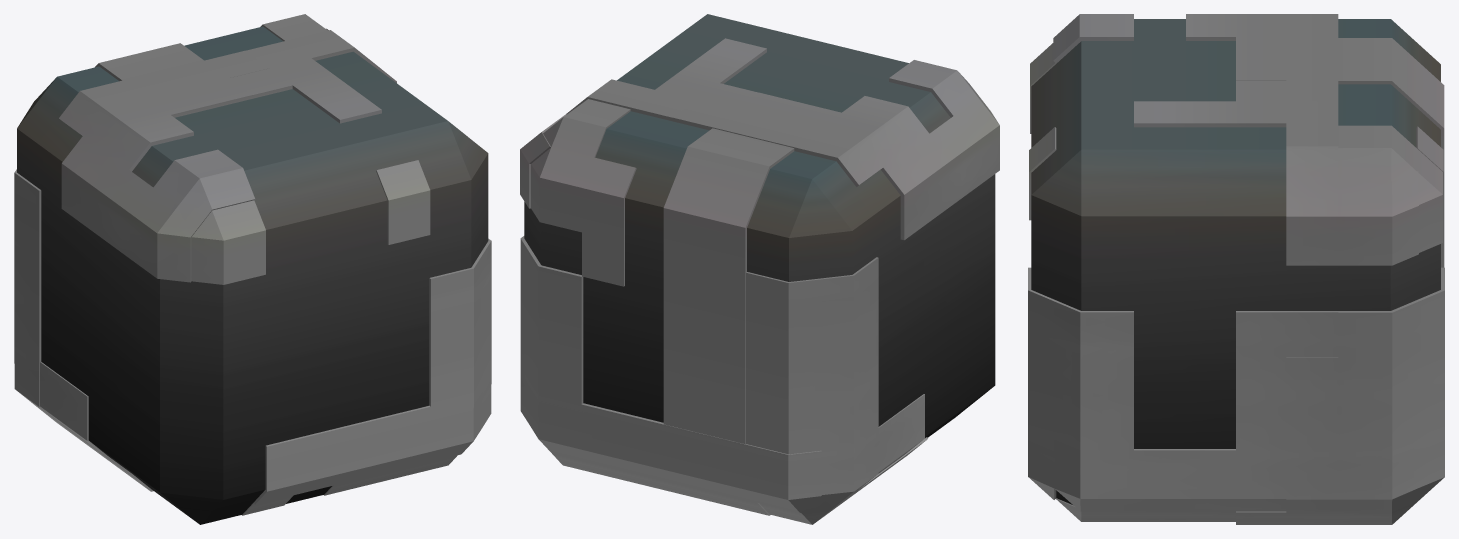
File: CyberPunkCubeShapeD.011.glb
3 renders of one model, left to right at view 1: azimuth 30°, elevation 25°; view 2: azimuth 150°, elevation 25°; view 3: azimuth 270°, elevation 25°, orthographic. The views are drawn at different scales.
Parts seen in each view (by area): view 1: CyberPunkCubeShapeD.011; view 2: CyberPunkCubeShapeD.011; view 3: CyberPunkCubeShapeD.011.
Boxes of the visible parts, <box> form: CyberPunkCubeShapeD.011: <box>14,14,491,524</box>; CyberPunkCubeShapeD.011: <box>520,14,999,524</box>; CyberPunkCubeShapeD.011: <box>1028,14,1444,524</box>.
Size of what is drawn, in the model's own units: 0.7775 by 0.7766 by 0.7741.
Materials: 1 (1 with a texture image).
